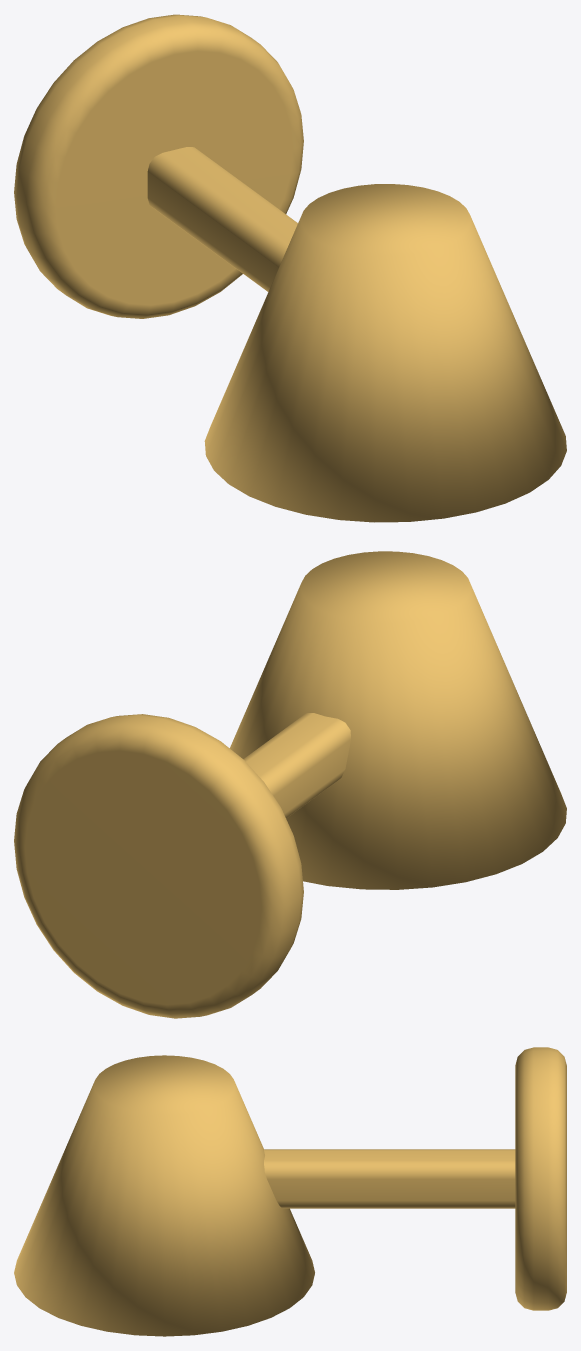
File: wallSpotBellBrass.glb
The picture shows the model from 3 angles, top to bottom: view 1: azimuth 30°, elevation 25°; view 2: azimuth 150°, elevation 25°; view 3: azimuth 270°, elevation 25°; orthographic projection. The views are drawn at different scales.
Parts seen in each view (by area): view 1: Bell spotlight shade, Wall backplate, Spotlight support arm; view 2: Bell spotlight shade, Wall backplate, Spotlight support arm; view 3: Bell spotlight shade, Spotlight support arm, Wall backplate.
Boxes of the visible parts, box(x1,y1,x2,y2) form: Bell spotlight shade: box(204, 184, 566, 522); Wall backplate: box(14, 14, 303, 318); Spotlight support arm: box(147, 147, 297, 291); Bell spotlight shade: box(229, 551, 566, 889); Wall backplate: box(14, 714, 303, 1018); Spotlight support arm: box(243, 713, 350, 818); Bell spotlight shade: box(14, 1055, 314, 1336); Spotlight support arm: box(264, 1149, 515, 1208); Wall backplate: box(515, 1047, 566, 1310).
Bounding box in the file's own units: 0.32 × 0.28 × 0.5875.
